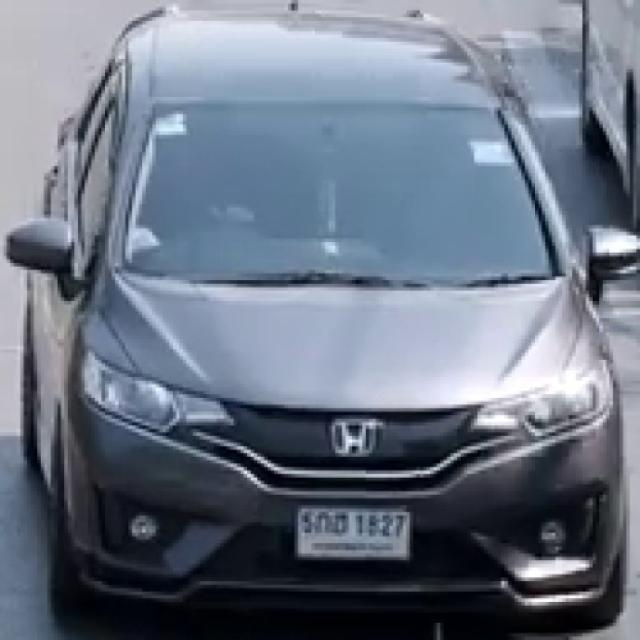plate: (296, 505, 409, 558)
